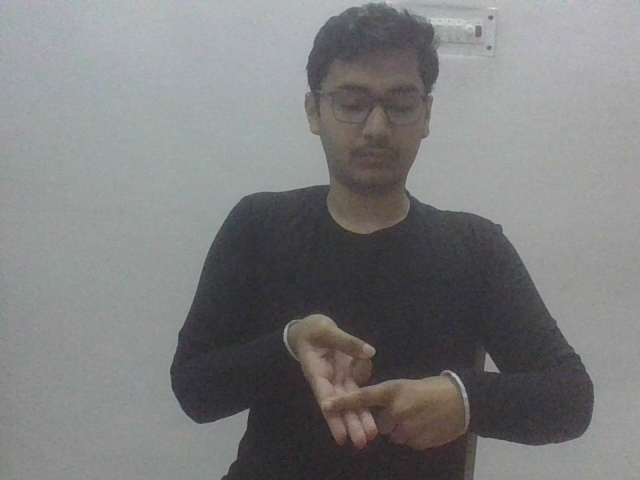E: (279, 305, 473, 458)
